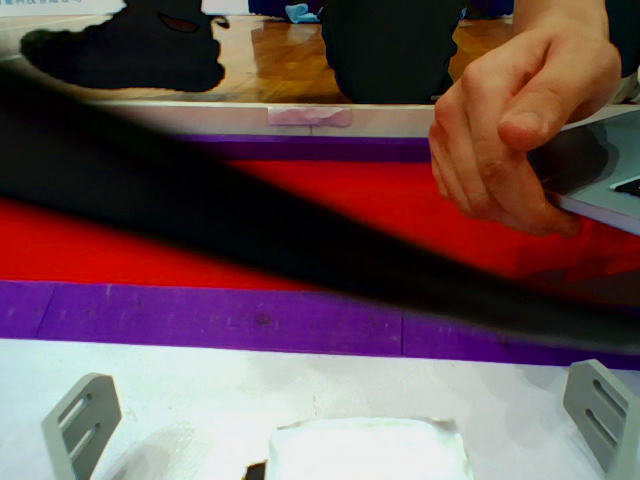kuang: (1, 127, 628, 374)
